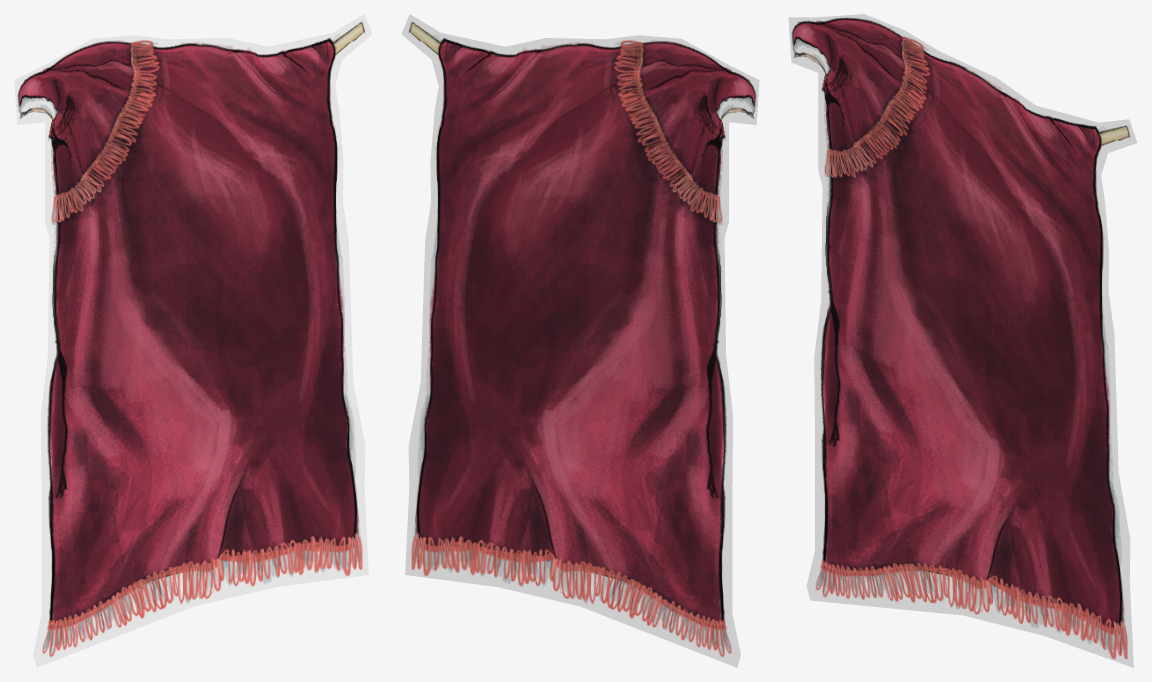
3 views of the same model, side by side, from view 1: azimuth 30°, elevation 25°; view 2: azimuth 150°, elevation 25°; view 3: azimuth 330°, elevation 25° (orthographic). The views are drawn at different scales.
Visible parts, largest first — view 1: Plane; view 2: Plane; view 3: Plane.
Boxes of the visible parts, x1,y1,x2,y2 form: Plane: (14, 14, 372, 667); Plane: (401, 14, 759, 667); Plane: (788, 14, 1137, 667).
Size of the model in its own units: 2.04 by 3.34 by 0.
1 material, 1 textured.
